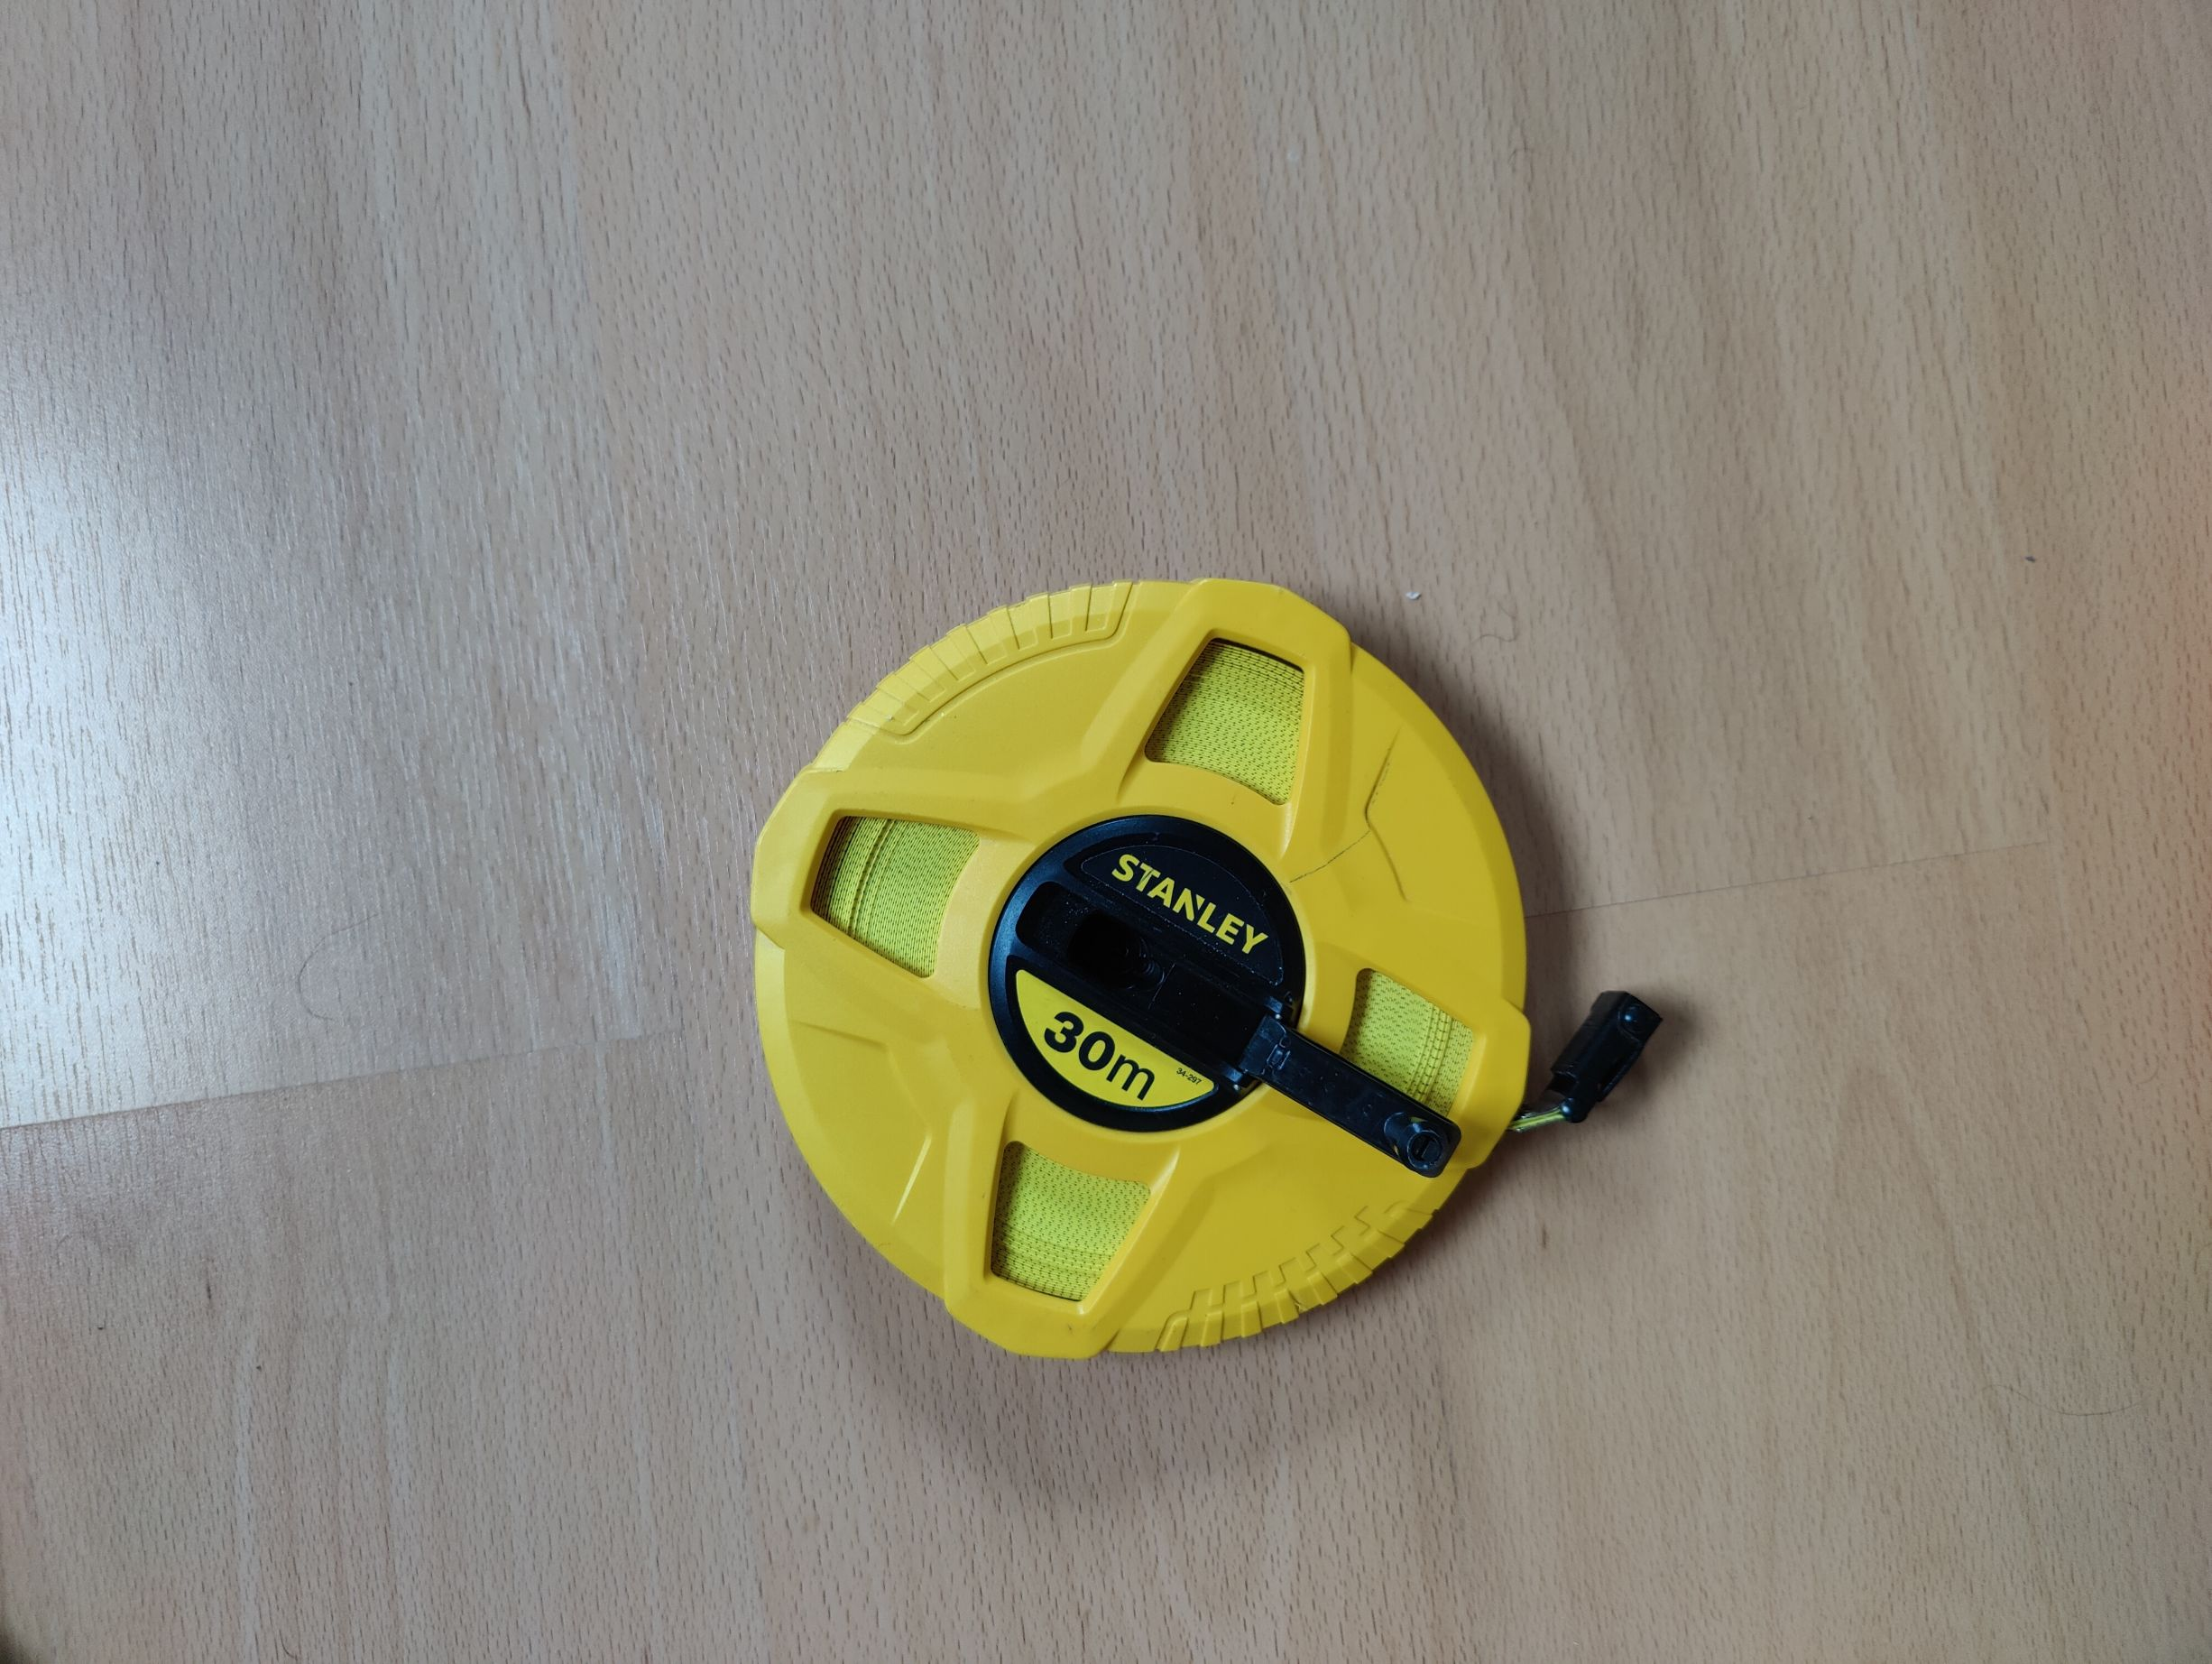tapemeasure: (750, 575, 1660, 1363)
